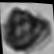correct: (0, 1, 54, 54)
